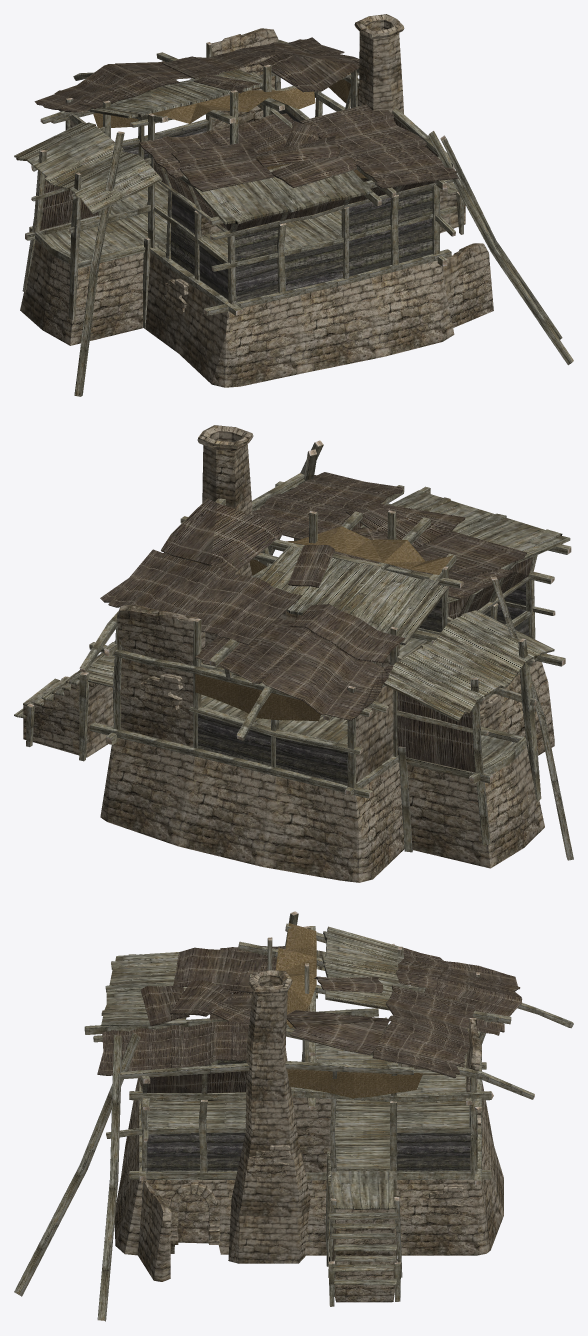
The model's file is TW2_1_HUT_02_1-transformed.glb.
The picture shows the model from 3 angles, top to bottom: view 1: azimuth 30°, elevation 25°; view 2: azimuth 150°, elevation 25°; view 3: azimuth 270°, elevation 25°; orthographic projection. The views are drawn at different scales.
Parts seen in each view (by area): view 1: default; view 2: default; view 3: default.
Boxes of the visible parts, x1,y1,x2,y2 form: default: (14,14,573,396); default: (14,425,573,882); default: (14,911,573,1321).
Size of the model in its own units: 15.9 by 10.57 by 17.2.
Materials: 6 (6 with a texture image).
